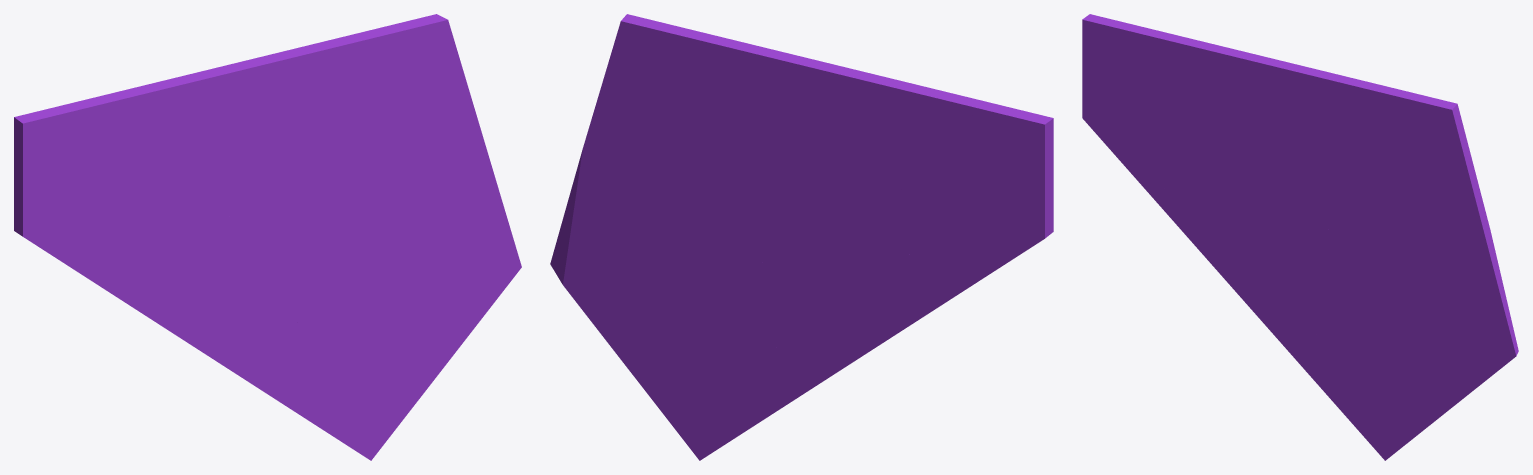
Rendered from Window_7_6_chunks.fbx.
3 views of the same model, side by side, from view 1: azimuth 30°, elevation 25°; view 2: azimuth 150°, elevation 25°; view 3: azimuth 330°, elevation 25° (orthographic). The views are drawn at different scales.
Parts seen in each view (by area): view 1: Window_7_6_11, Window_7_6_9, Window_7_6_1, Window_7_6_7, Window_7_6_6, Window_7_6_8, Window_7_6_4, Window_7_6_3, Window_7_6_12, Window_7_6_10, Window_7_6_0, Window_7_6_2 (+1 smaller); view 2: Window_7_6_10, Window_7_6_11, Window_7_6_1, Window_7_6_6, Window_7_6_4, Window_7_6_8, Window_7_6_7, Window_7_6_5, Window_7_6_12, Window_7_6_2, Window_7_6_3, Window_7_6_9; view 3: Window_7_6_11, Window_7_6_9, Window_7_6_1, Window_7_6_6, Window_7_6_7, Window_7_6_8, Window_7_6_4, Window_7_6_3, Window_7_6_12, Window_7_6_0, Window_7_6_10, Window_7_6_2 (+1 smaller).
Boxes of the visible parts, box(x1,y1,x2,y2) form: Window_7_6_11: box(115, 213, 310, 404); Window_7_6_9: box(15, 95, 182, 275); Window_7_6_1: box(105, 61, 349, 211); Window_7_6_7: box(284, 230, 409, 441); Window_7_6_6: box(342, 233, 521, 460); Window_7_6_8: box(360, 119, 511, 261); Window_7_6_4: box(244, 14, 456, 124); Window_7_6_3: box(347, 48, 477, 166); Window_7_6_12: box(141, 114, 302, 217); Window_7_6_10: box(14, 104, 130, 296); Window_7_6_0: box(302, 177, 383, 241); Window_7_6_2: box(339, 156, 400, 195); Window_7_6_10: box(885, 111, 1053, 302); Window_7_6_11: box(756, 217, 944, 404); Window_7_6_1: box(720, 60, 957, 221); Window_7_6_6: box(550, 230, 732, 460); Window_7_6_4: box(608, 14, 816, 130); Window_7_6_8: box(560, 120, 696, 257); Window_7_6_7: box(676, 284, 786, 439); Window_7_6_5: box(655, 186, 766, 287); Window_7_6_12: box(765, 109, 941, 220); Window_7_6_2: box(600, 111, 741, 212); Window_7_6_3: box(591, 65, 673, 125); Window_7_6_9: box(935, 95, 1053, 231); Window_7_6_11: box(1163, 169, 1332, 374); Window_7_6_9: box(1082, 15, 1220, 197); Window_7_6_1: box(1165, 33, 1366, 216); Window_7_6_6: box(1360, 304, 1518, 460); Window_7_6_7: box(1309, 240, 1418, 431); Window_7_6_8: box(1375, 203, 1510, 322); Window_7_6_4: box(1288, 63, 1468, 158); Window_7_6_3: box(1364, 138, 1483, 217); Window_7_6_12: box(1185, 62, 1325, 216); Window_7_6_0: box(1325, 215, 1395, 244); Window_7_6_10: box(1089, 14, 1175, 208); Window_7_6_2: box(1357, 187, 1410, 219).
Bounding box in the file's own units: 887 × 717 × 27.2.
